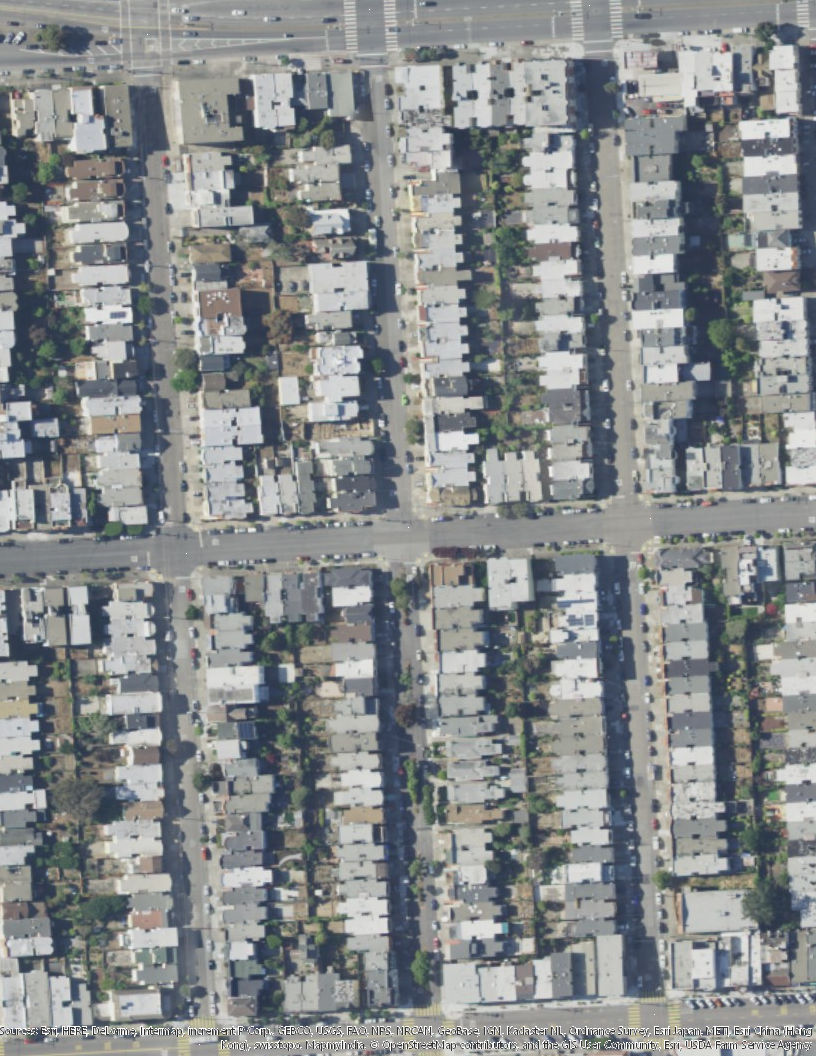zebracross: (340, 1, 363, 55), (380, 1, 401, 52), (567, 1, 588, 42), (607, 1, 628, 40), (666, 998, 682, 1038), (794, 1, 813, 32), (626, 1003, 642, 1039), (189, 1018, 217, 1032), (414, 1003, 441, 1016), (641, 991, 668, 1002), (175, 1034, 188, 1056)
